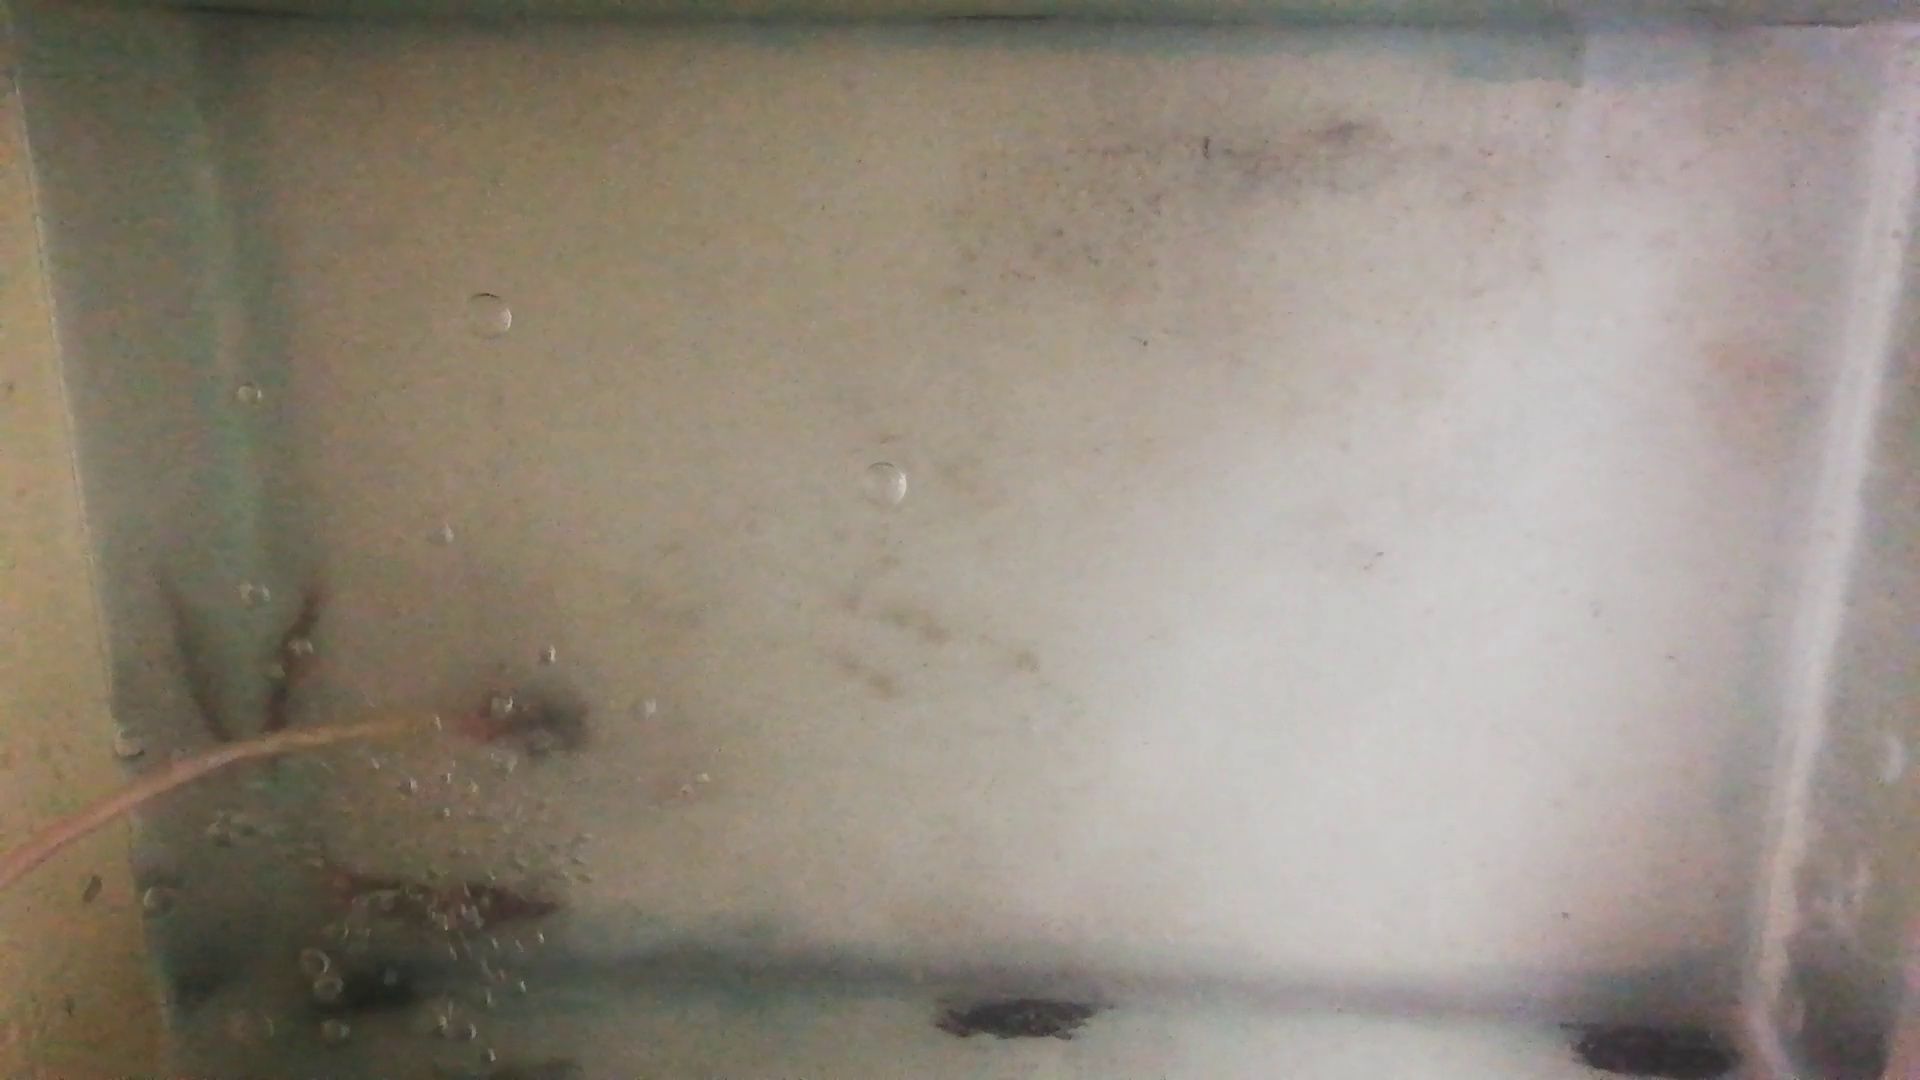fish: (327, 872, 558, 935), (260, 591, 324, 735)
